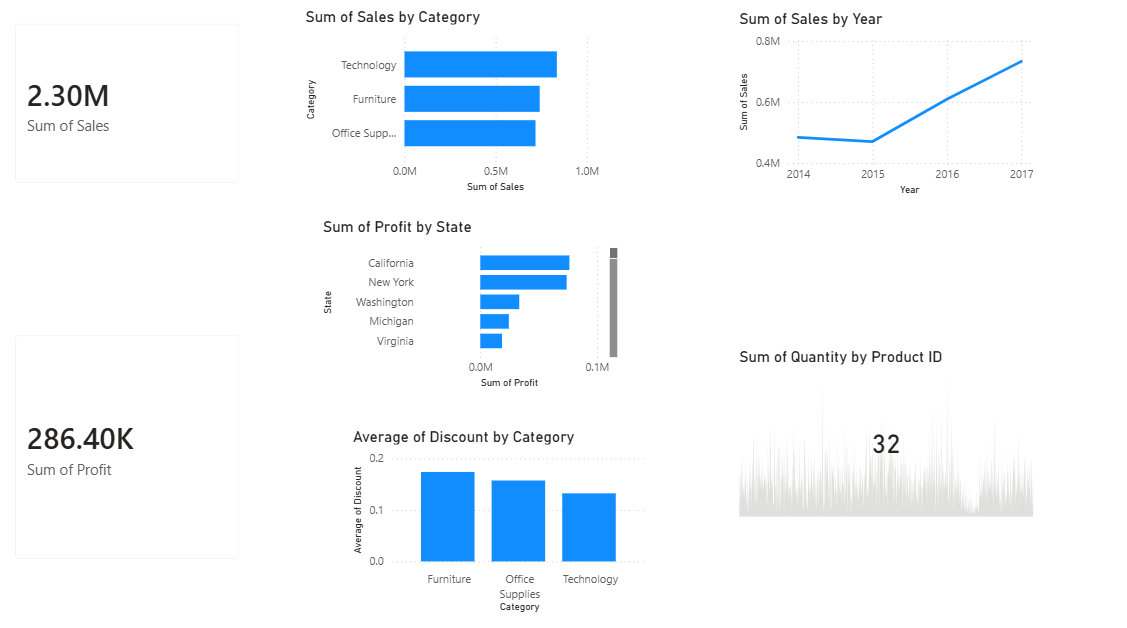

The dashboard page shown, as its layout file describes it:
{"tool":"powerbi","page":{"name":"Page 1","canvas":[1280,720],"ordinal":0},"visuals":[{"type":"cardVisual","fields":{"Data":["Sum(superstore_db orders.Profit)"]},"box":[10,360,280,280],"z":1},{"type":"clusteredBarChart","fields":{"Category":["superstore_db orders.Category"],"Y":["Sum(superstore_db orders.Sales)"]},"box":[340,17.1,332.9,208.6],"z":2},{"type":"clusteredBarChart","fields":{"Category":["superstore_db orders.State"],"Y":["Sum(superstore_db orders.Profit)"]},"box":[360,247.1,332.9,192.9],"z":3},{"type":"clusteredColumnChart","fields":{"Category":["superstore_db orders.Category"],"Y":["Avg(superstore_db orders.Discount)"]},"box":[392.9,477.1,332.9,208.6],"z":4},{"type":"lineChart","fields":{"Category":["superstore_db orders.Order Date.Variation.Date Hierarchy.Year","superstore_db orders.Order Date.Variation.Date Hierarchy.Quarter","superstore_db orders.Order Date.Variation.Date Hierarchy.Month","superstore_db orders.Order Date.Variation.Date Hierarchy.Day"],"Y":["Sum(superstore_db orders.Sales)"]},"box":[817.1,18.6,332.9,208.6],"z":5},{"type":"kpi","fields":{"Indicator":["Sum(superstore_db orders.Quantity)"],"TrendLine":["superstore_db orders.Product ID"]},"box":[817.1,390,332.9,191.4],"z":6},{"type":"cardVisual","fields":{"Data":["Sum(superstore_db orders.Sales)"]},"box":[10,18,280,209],"z":7}]}

Visuals, with their boxes in screenshot pixels (x1, y1, x2, y2), scaled from the page's 1280x720 canvas onto the 1127x628 screenshot:
cardVisual - Sum(superstore_db orders.Profit): select_region(9, 314, 255, 558)
clusteredBarChart - superstore_db orders.Category x Sum(superstore_db orders.Sales): select_region(299, 15, 592, 197)
clusteredBarChart - superstore_db orders.State x Sum(superstore_db orders.Profit): select_region(317, 216, 610, 384)
clusteredColumnChart - superstore_db orders.Category x Avg(superstore_db orders.Discount): select_region(346, 416, 639, 598)
lineChart - superstore_db orders.Order Date.Variation.Date Hierarchy.Year x superstore_db orders.Order Date.Variation.Date Hierarchy.Quarter: select_region(719, 16, 1013, 198)
kpi - Sum(superstore_db orders.Quantity) x superstore_db orders.Product ID: select_region(719, 340, 1013, 507)
cardVisual - Sum(superstore_db orders.Sales): select_region(9, 16, 255, 198)
